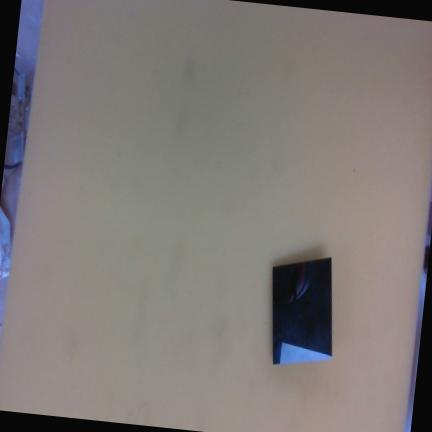tile: (272, 256, 332, 365)
